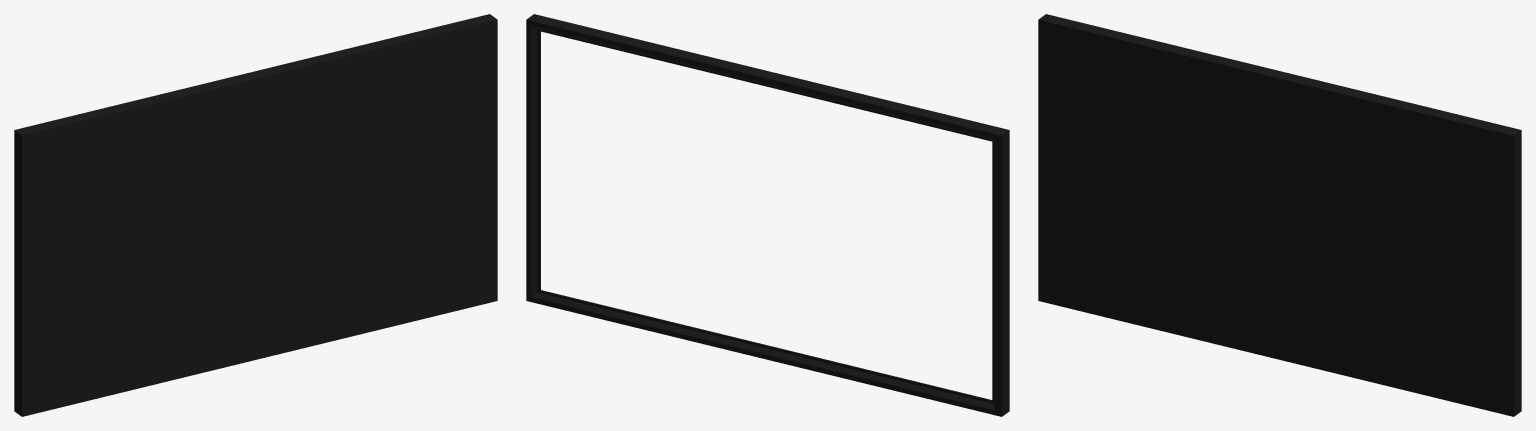
Rendered from vidFrame1024x1024.glb.
3 views of the same model, side by side, from view 1: azimuth 30°, elevation 25°; view 2: azimuth 150°, elevation 25°; view 3: azimuth 330°, elevation 25° (orthographic).
Visible parts, largest first — view 1: frame; view 2: frame; view 3: frame.
Part boxes in pixels (box(x1,y1,x2,y2)): frame: box(14, 14, 497, 416); frame: box(526, 14, 1009, 416); frame: box(1038, 14, 1521, 416).
Size of what is drawn, in the model's own units: 12.6 by 7.12 by 0.3579.
2 materials, 2 textured.
